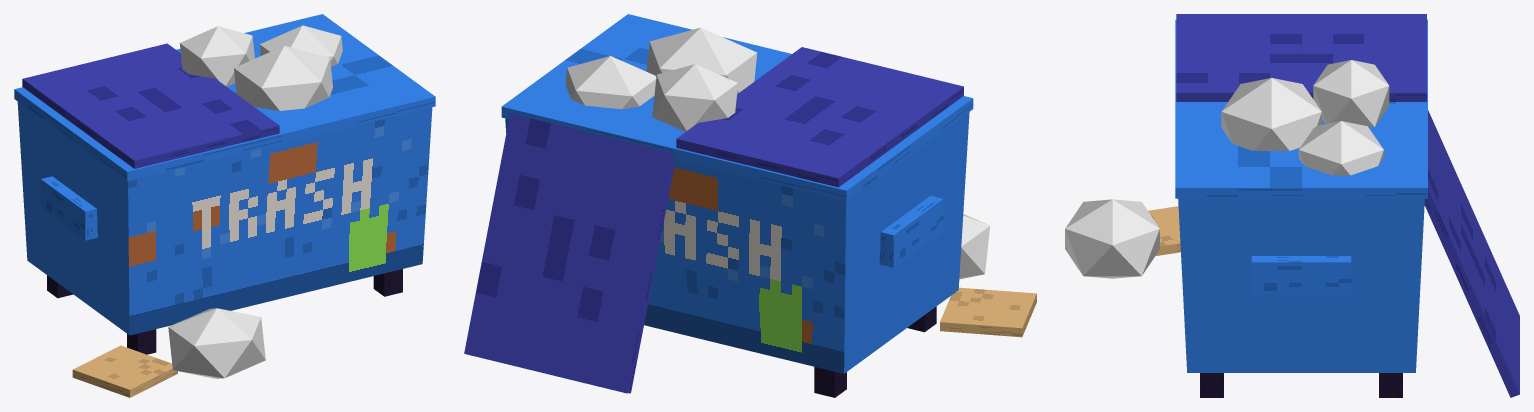
File: Dumpster.fbx
3 views of the same model, side by side, from view 1: azimuth 30°, elevation 25°; view 2: azimuth 150°, elevation 25°; view 3: azimuth 270°, elevation 25° (orthographic). The views are drawn at different scales.
Parts seen in each view (by area): view 1: Dumpster body, Dumpster lid 0.001, Dumpster rim, Dumpster spilled bag, Dumpster bag 0, Dumpster pizza box, Dumpster bag 2, Dumpster pocket -1, Dumpster bag 1, Dumpster caster 1 -1, Dumpster caster -1 -1; view 2: Dumpster body, Dumpster lid 1.001, Dumpster lid 0.001, Dumpster rim, Dumpster bag 2, Dumpster bag 0, Dumpster pizza box, Dumpster bag 1, Dumpster pocket -1, Dumpster spilled bag, Dumpster caster -1 1; view 3: Dumpster body, Dumpster lid 0.001, Dumpster rim, Dumpster lid 1.001, Dumpster spilled bag, Dumpster bag 0, Dumpster bag 2, Dumpster pocket 1, Dumpster bag 1, Dumpster pizza box, Dumpster caster 1 -1, Dumpster caster 1 1.
Boxes of the visible parts, box(x1,y1,x2,y2) form: Dumpster body: box(17, 101, 432, 335); Dumpster lid 0.001: box(22, 43, 279, 168); Dumpster rim: box(14, 14, 435, 181); Dumpster spilled bag: box(168, 308, 265, 378); Dumpster bag 0: box(234, 45, 332, 110); Dumpster pizza box: box(72, 345, 177, 397); Dumpster bag 2: box(179, 26, 254, 86); Dumpster pocket -1: box(41, 176, 97, 240); Dumpster bag 1: box(259, 25, 342, 66); Dumpster caster 1 -1: box(373, 269, 402, 296); Dumpster caster -1 -1: box(127, 329, 156, 354); Dumpster body: box(505, 112, 969, 373); Dumpster lid 1.001: box(464, 113, 673, 393); Dumpster lid 0.001: box(676, 47, 963, 187); Dumpster rim: box(501, 14, 973, 201); Dumpster bag 2: box(652, 64, 738, 131); Dumpster bag 0: box(646, 27, 757, 93); Dumpster pizza box: box(940, 287, 1036, 337); Dumpster bag 1: box(565, 56, 656, 109); Dumpster pocket -1: box(879, 195, 943, 267); Dumpster spilled bag: box(959, 214, 990, 279); Dumpster caster -1 1: box(814, 367, 846, 397); Dumpster body: box(1178, 198, 1424, 372); Dumpster lid 0.001: box(1176, 14, 1426, 101); Dumpster rim: box(1175, 19, 1427, 198); Dumpster lid 1.001: box(1424, 110, 1519, 397); Dumpster spilled bag: box(1065, 199, 1159, 278); Dumpster bag 0: box(1221, 78, 1321, 150); Dumpster bag 2: box(1313, 60, 1389, 127); Dumpster pocket 1: box(1251, 256, 1351, 294); Dumpster bag 1: box(1298, 121, 1383, 175); Dumpster pizza box: box(1148, 206, 1180, 255); Dumpster caster 1 -1: box(1200, 373, 1223, 397); Dumpster caster 1 1: box(1379, 373, 1402, 397).
Bounding box in the file's own units: 2.37 × 1.54 × 2.29.
Materials: 8 (5 with a texture image).
